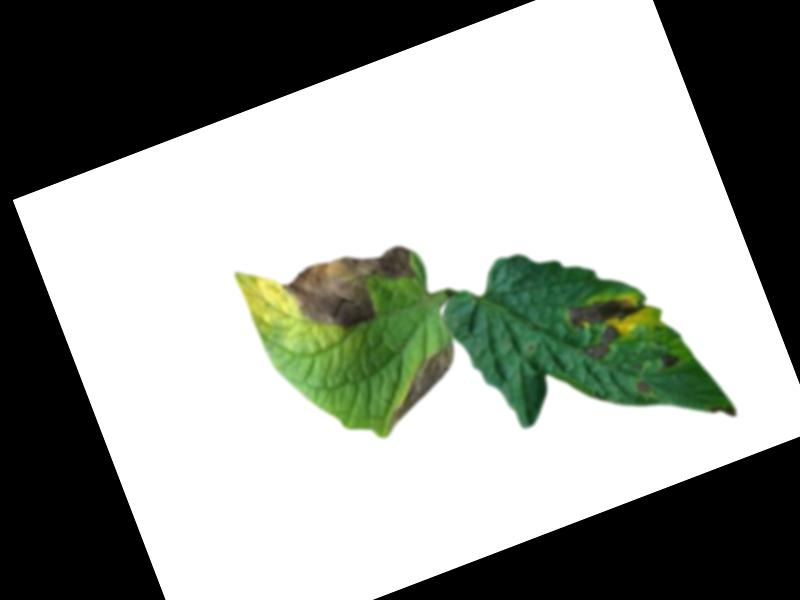Early_blight: (277, 230, 430, 347), (368, 340, 474, 431), (553, 282, 658, 369), (656, 348, 684, 374), (635, 378, 653, 399)
